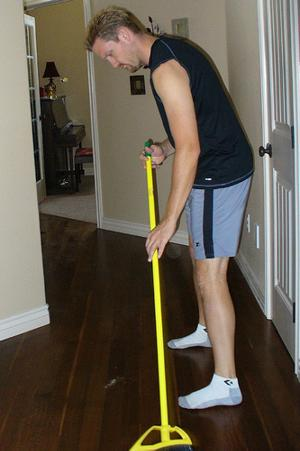person: (85, 4, 254, 412)
